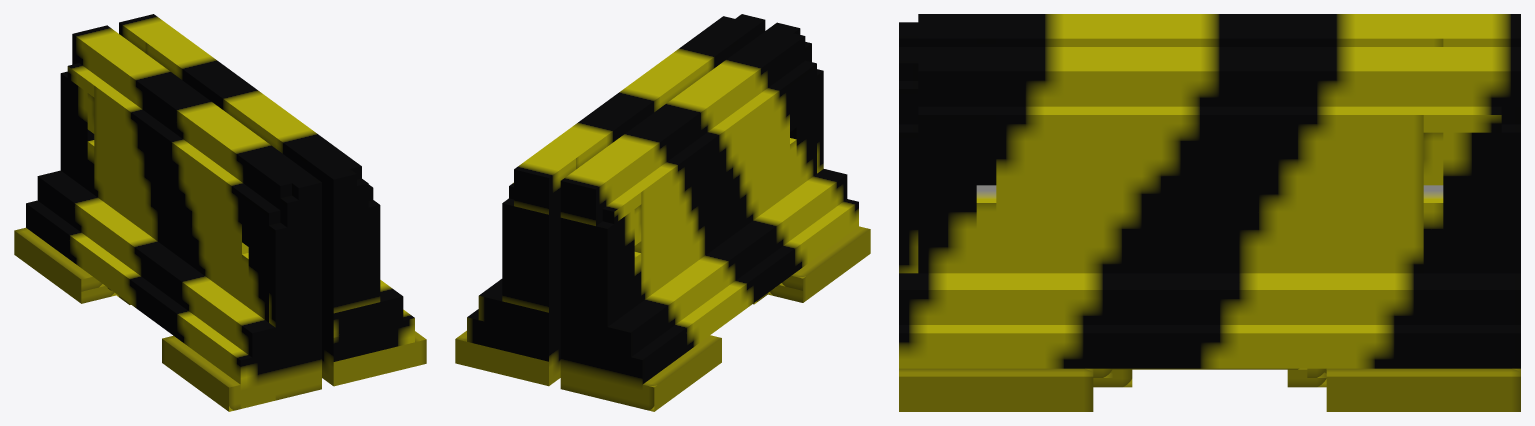
The model's file is blok_drog_rozdzielna_kol.dae.
The picture shows the model from 3 angles, left to right: view 1: azimuth 30°, elevation 25°; view 2: azimuth 150°, elevation 25°; view 3: azimuth 270°, elevation 25°; orthographic projection. The views are drawn at different scales.
Visible parts, largest first — view 1: Content; view 2: Content; view 3: Content.
Part boxes in pixels (x1,y1,x2,y2): Content: (14, 14, 426, 411); Content: (455, 14, 870, 411); Content: (899, 14, 1520, 411).
Bounding box in the file's own units: 17 × 17 × 32.
Materials: 1 (1 with a texture image).
